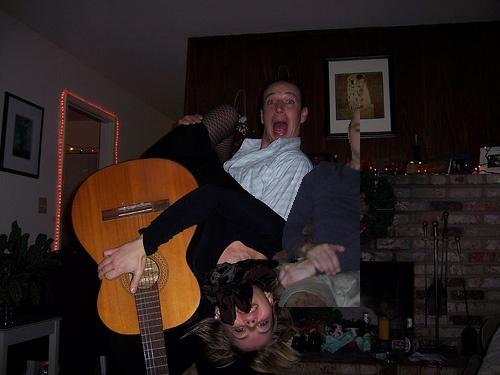tampered: (278, 108, 360, 307)
